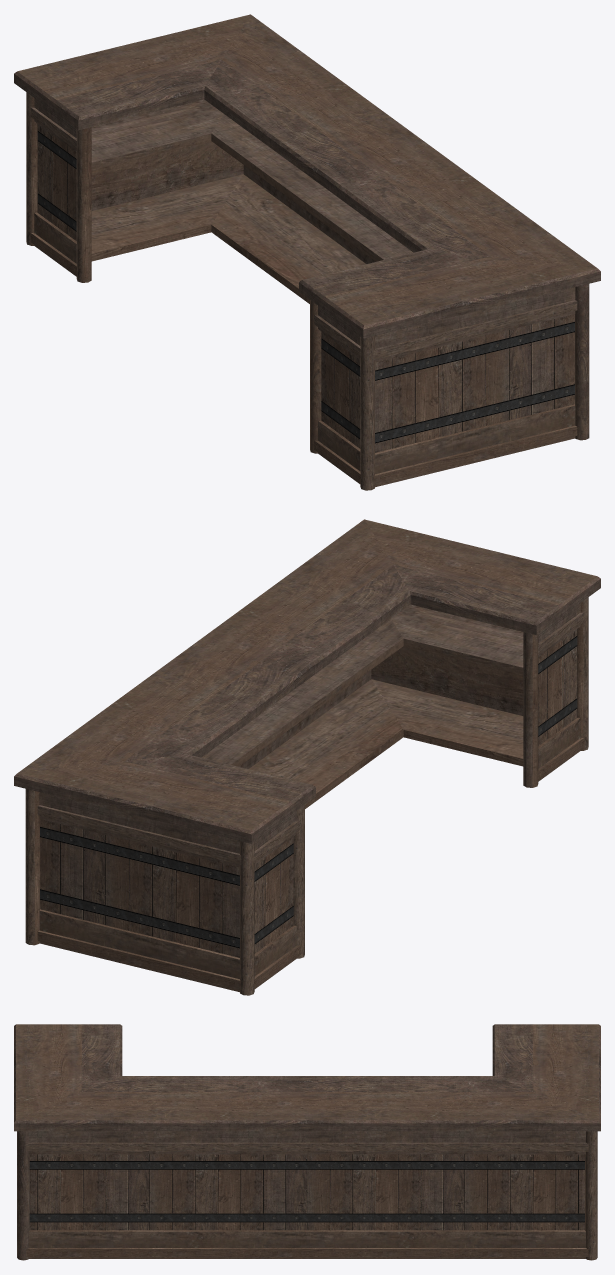
File: mw_bar_01_03.FBX
3 views of the same model, one above another, from view 1: azimuth 30°, elevation 25°; view 2: azimuth 150°, elevation 25°; view 3: azimuth 270°, elevation 25° (orthographic). The views are drawn at different scales.
Visible parts, largest first — view 1: mw_bar_01_03; view 2: mw_bar_01_03; view 3: mw_bar_01_03.
Boxes of the visible parts, left/top/right/bottom form: mw_bar_01_03: left=14, top=14, right=600, bottom=490; mw_bar_01_03: left=14, top=519, right=600, bottom=995; mw_bar_01_03: left=14, top=1024, right=600, bottom=1260.
Bounding box in the file's own units: 179 × 122 × 455.
